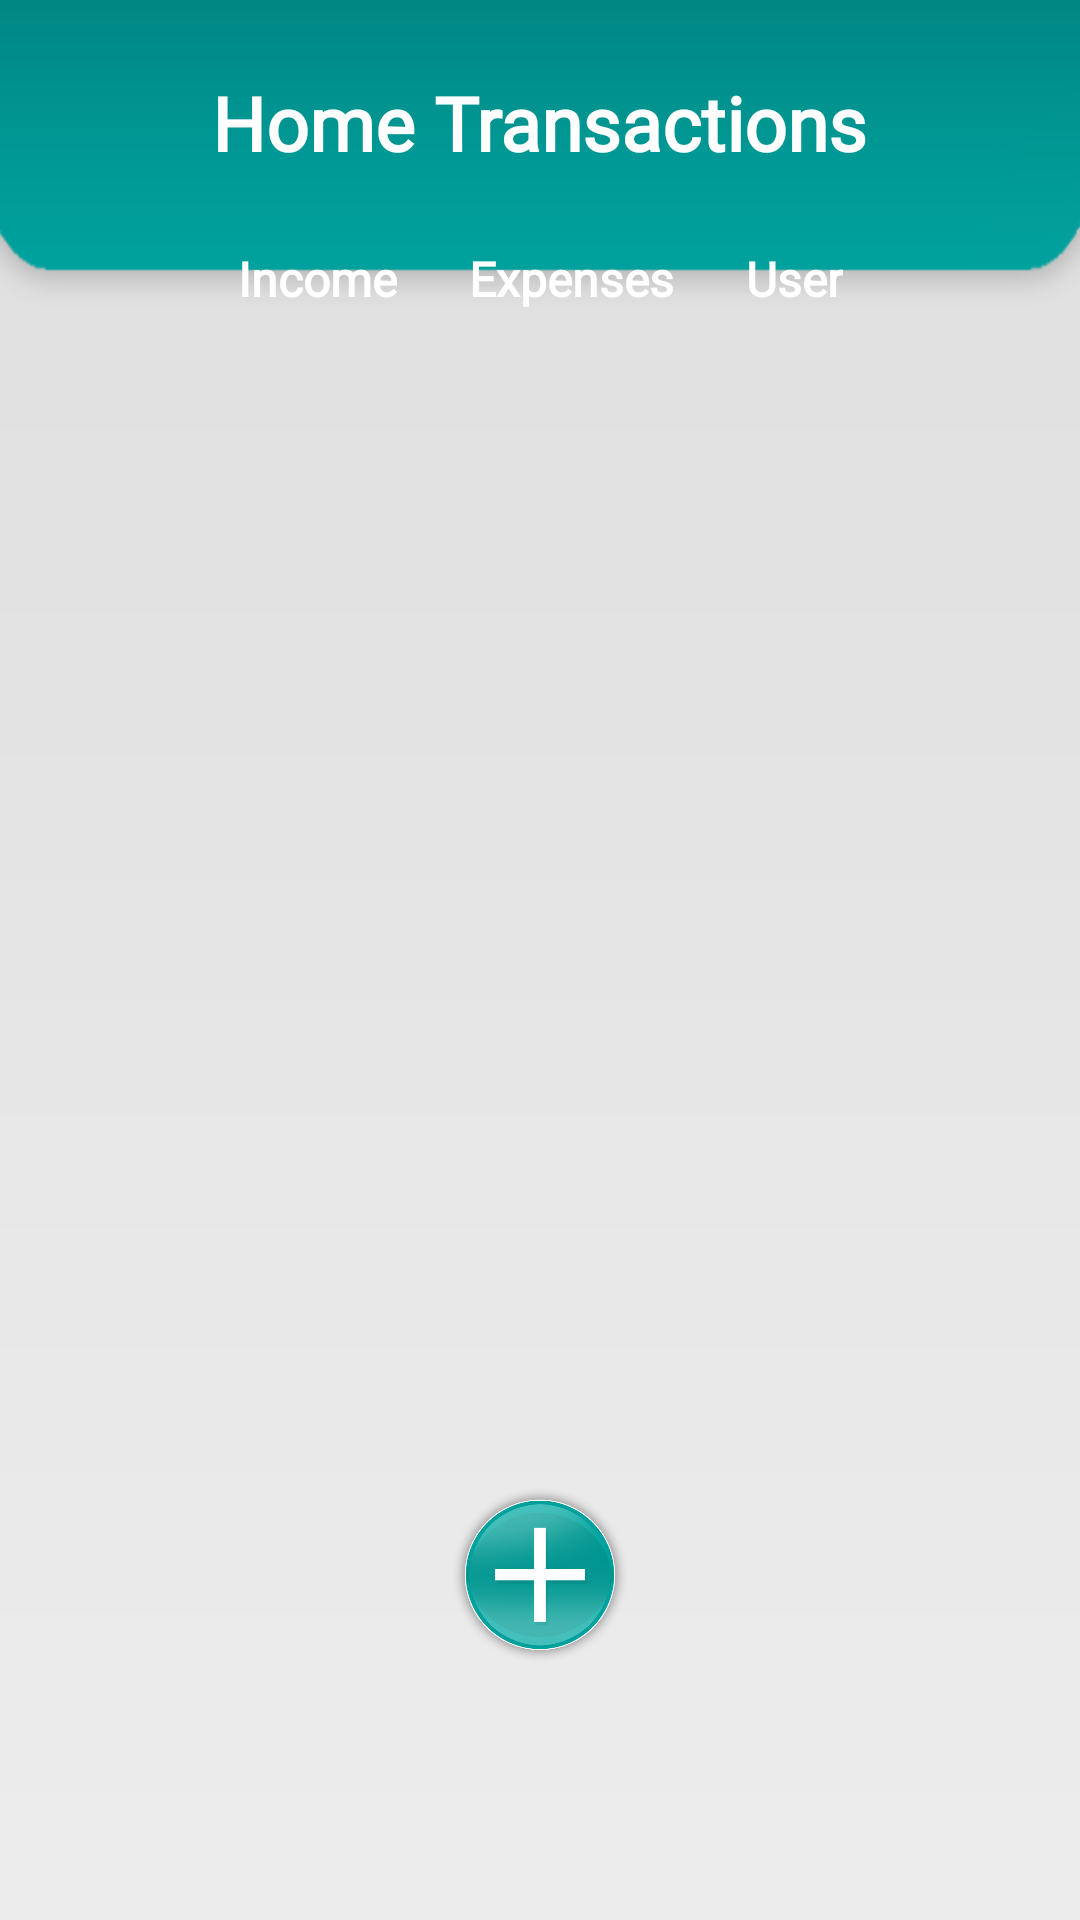

Icons on this 1080px×1920px Android screen, each with its box as (x1, y1, x2, y2):
plus: (460, 1495, 620, 1655)
